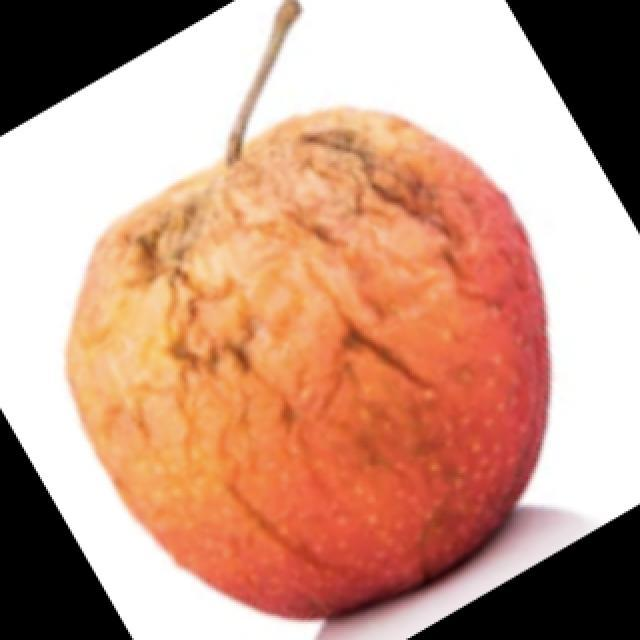Rotten: (47, 119, 548, 608)
